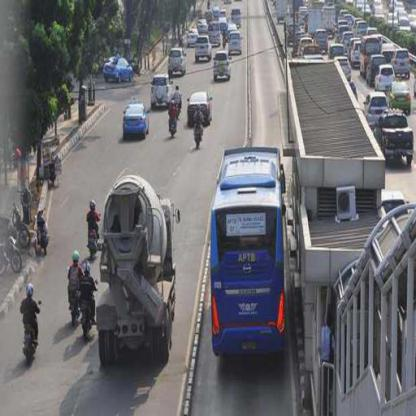bus: (213, 147, 287, 364)
car: (374, 114, 414, 168), (123, 101, 147, 140), (188, 90, 211, 121), (366, 94, 388, 124), (151, 74, 169, 110), (213, 49, 231, 81), (168, 49, 186, 78), (195, 36, 212, 62), (229, 31, 243, 56), (197, 20, 208, 36)
motorbike: (21, 322, 42, 366), (78, 296, 96, 344), (84, 228, 102, 258)
